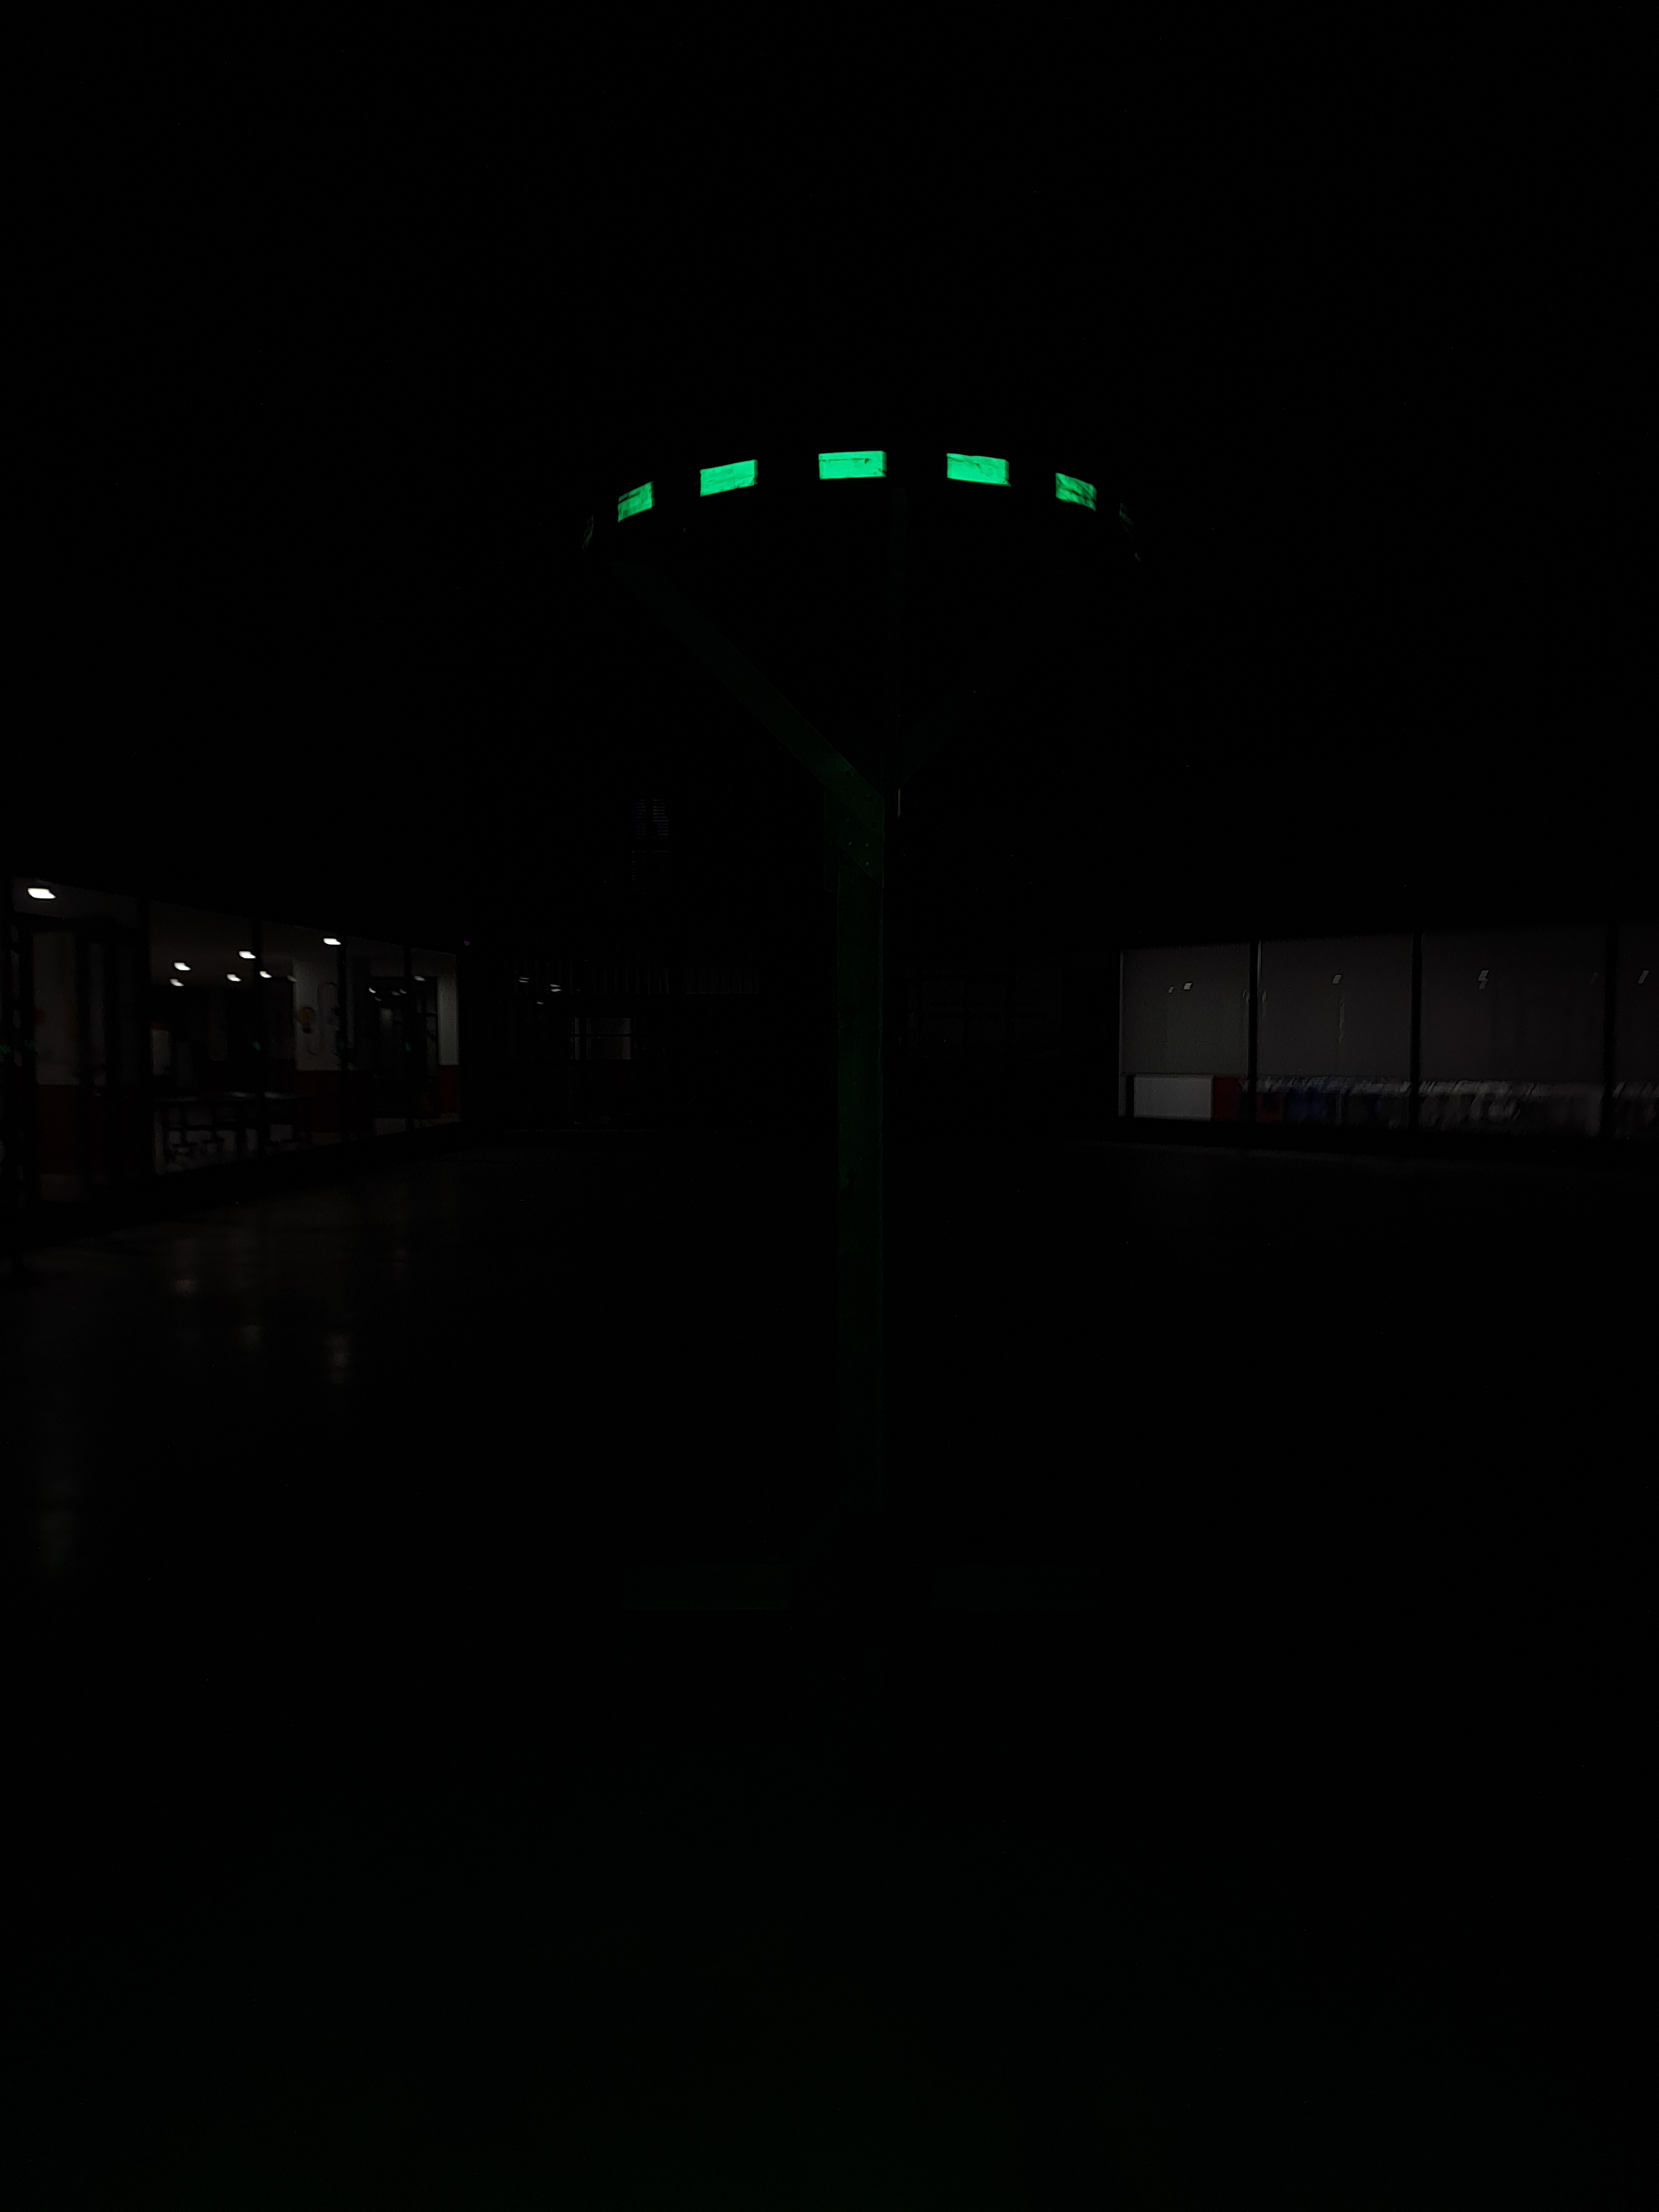hoop: (608, 448, 1100, 540)
